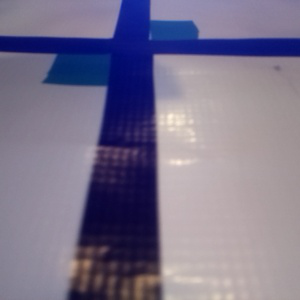bottom_left: (42, 38, 147, 86)
top_right: (118, 20, 198, 53)
